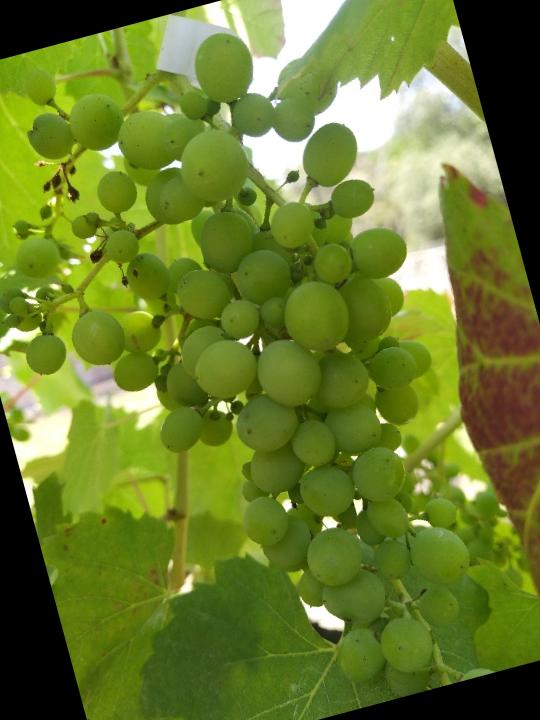grape: (0, 0, 519, 720)
